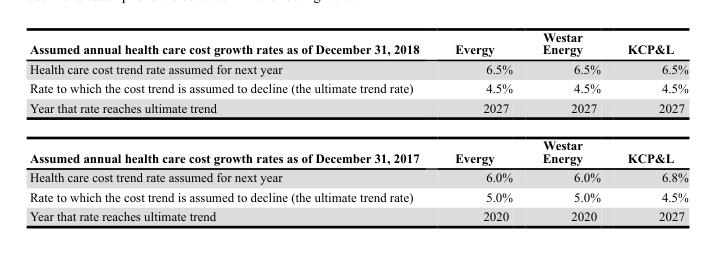table: (28, 28, 687, 222)
table column: (28, 28, 436, 222), (436, 28, 526, 222), (526, 28, 613, 222), (613, 28, 687, 222)
table column header: (28, 28, 687, 58)
table row: (28, 125, 687, 167), (28, 28, 687, 58), (28, 97, 687, 125), (28, 58, 687, 78), (28, 186, 687, 206), (28, 78, 687, 97), (28, 167, 687, 186), (28, 206, 687, 222)
